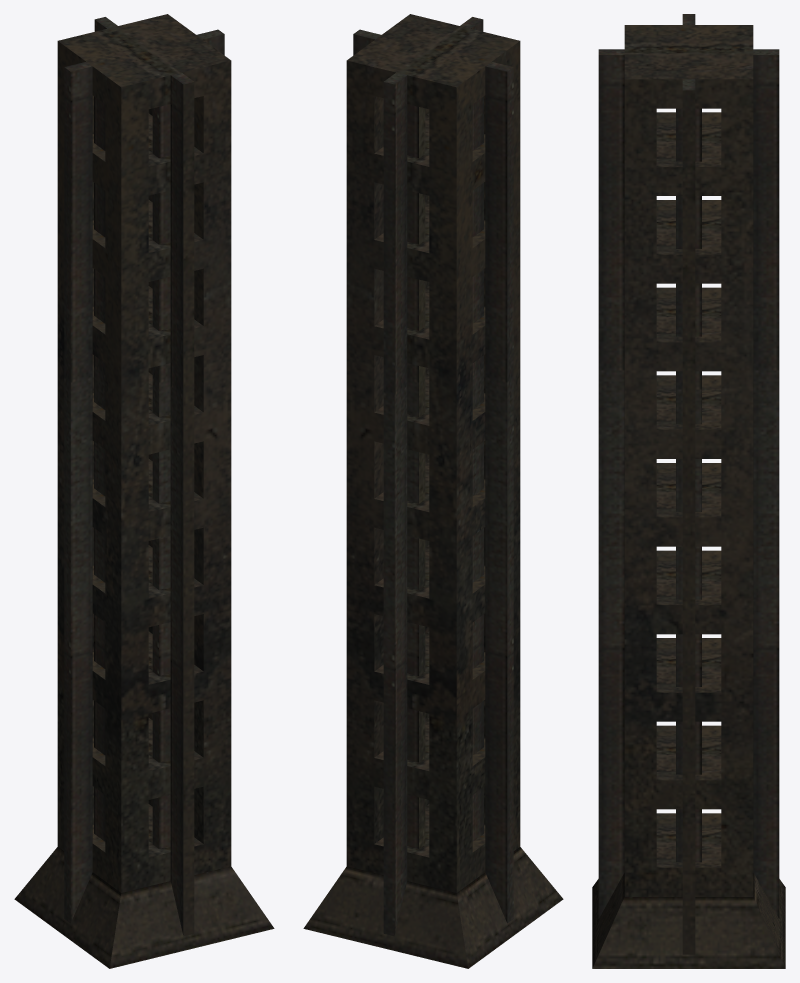
Rendered from pillar_rgx_3.dae.
3 views of the same model, side by side, from view 1: azimuth 30°, elevation 25°; view 2: azimuth 150°, elevation 25°; view 3: azimuth 270°, elevation 25° (orthographic).
Parts seen in each view (by area): view 1: pillar_rgx_3; view 2: pillar_rgx_3; view 3: pillar_rgx_3.
Boxes of the visible parts, <box> form: pillar_rgx_3: <box>14,14,274,968</box>; pillar_rgx_3: <box>303,14,563,968</box>; pillar_rgx_3: <box>592,14,785,968</box>.
Bounding box in the file's own units: 0.6 × 0.6 × 3.
Materials: 2 (2 with a texture image).
